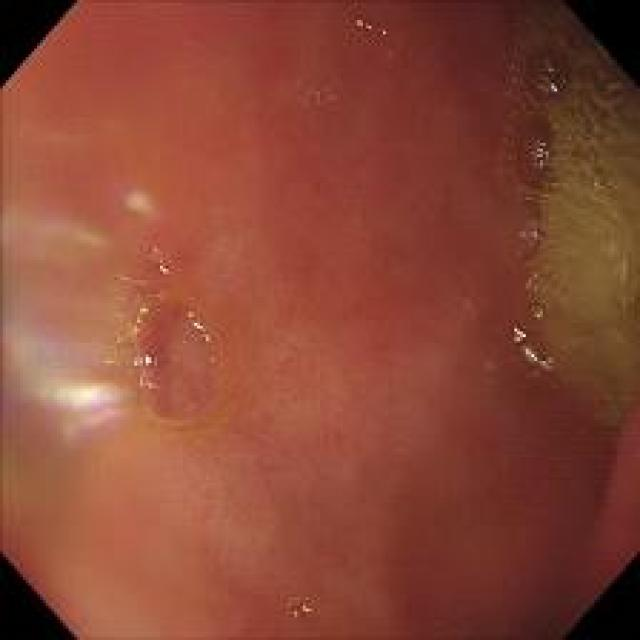bubbles: (515, 9, 634, 426), (136, 294, 216, 429), (352, 8, 395, 48), (286, 595, 319, 625)
color misalignment: (8, 126, 146, 438), (512, 321, 554, 376), (182, 305, 216, 348), (352, 15, 391, 35), (150, 246, 171, 278), (534, 140, 550, 174), (519, 75, 535, 109), (290, 599, 315, 619), (602, 75, 625, 95), (545, 79, 565, 100), (131, 302, 146, 330), (592, 175, 605, 196), (146, 375, 158, 394), (566, 148, 579, 165)
